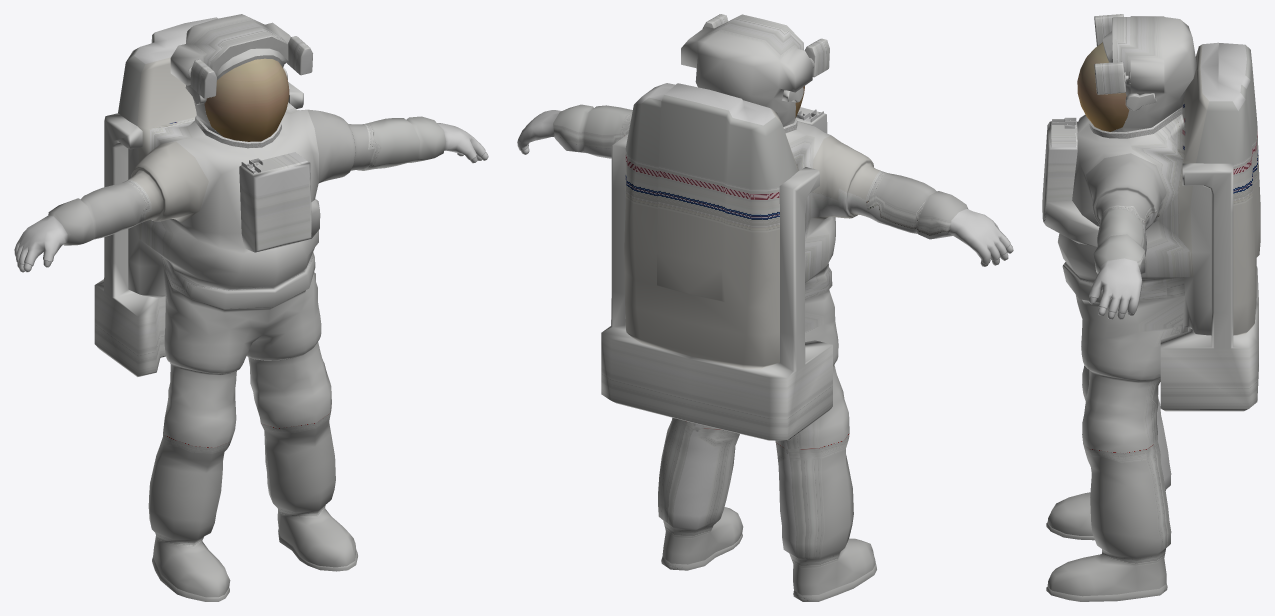
File: astronaut-web.glb
3 views of the same model, side by side, from view 1: azimuth 30°, elevation 25°; view 2: azimuth 150°, elevation 25°; view 3: azimuth 270°, elevation 25° (orthographic). The views are drawn at different scales.
Parts seen in each view (by area): view 1: astronaut1; view 2: astronaut1; view 3: astronaut1.
Part boxes in pixels (x1=…): astronaut1: x1=14, y1=14, x2=488, y2=601; astronaut1: x1=517, y1=14, x2=1013, y2=601; astronaut1: x1=1042, y1=14, x2=1260, y2=601.
Size of the model in its own units: 68.91 by 74.26 by 27.6.
2 materials, 2 textured.
